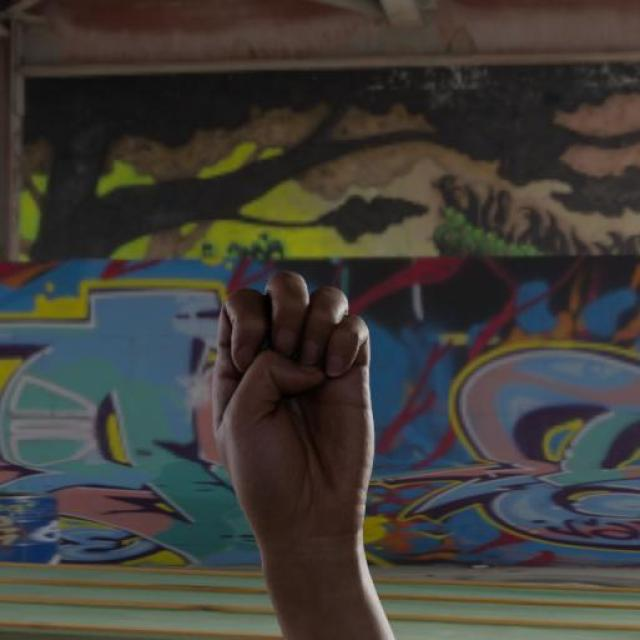E: (211, 270, 380, 522)
